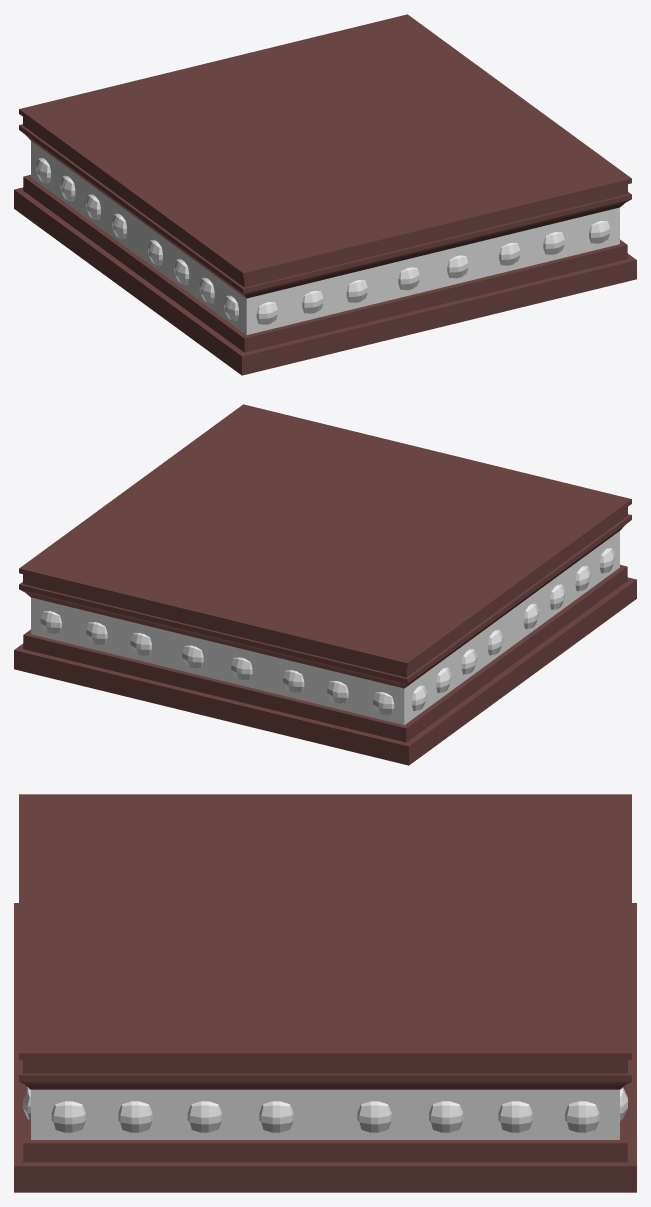
3 renders of one model, top to bottom at view 1: azimuth 30°, elevation 25°; view 2: azimuth 150°, elevation 25°; view 3: azimuth 270°, elevation 25°, orthographic. The views are drawn at different scales.
Parts seen in each view (by area): view 1: floor10A, floor10.0Decor.001; view 2: floor10A, floor10.0Decor.001; view 3: floor10A, floor10.0Decor.001.
Boxes of the visible parts, x1,y1,x2,y2 form: floor10A: [14, 14, 636, 375]; floor10.0Decor.001: [36, 158, 610, 324]; floor10A: [14, 404, 636, 765]; floor10.0Decor.001: [40, 548, 614, 714]; floor10A: [14, 794, 636, 1192]; floor10.0Decor.001: [23, 1086, 627, 1132].
Size of the model in its own units: 212 by 51.28 by 212.
